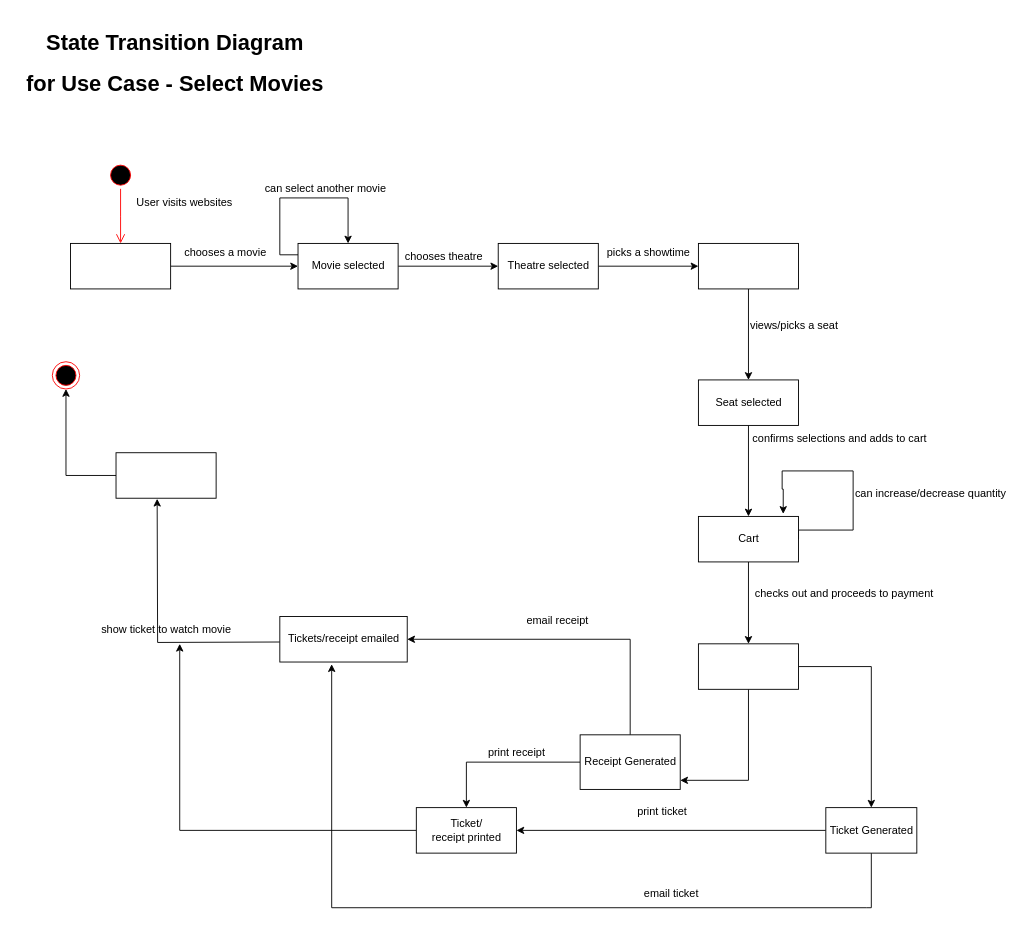
The diagram is 1032 pixels wide and 931 high, and some of its shapes have lost their labels. Each missing label, with the centre of its shape:
Movies explored: (x=120, y=266)
Payment made: (x=748, y=666)
Showtime selected: (x=748, y=266)
Theatre: (x=165, y=475)
